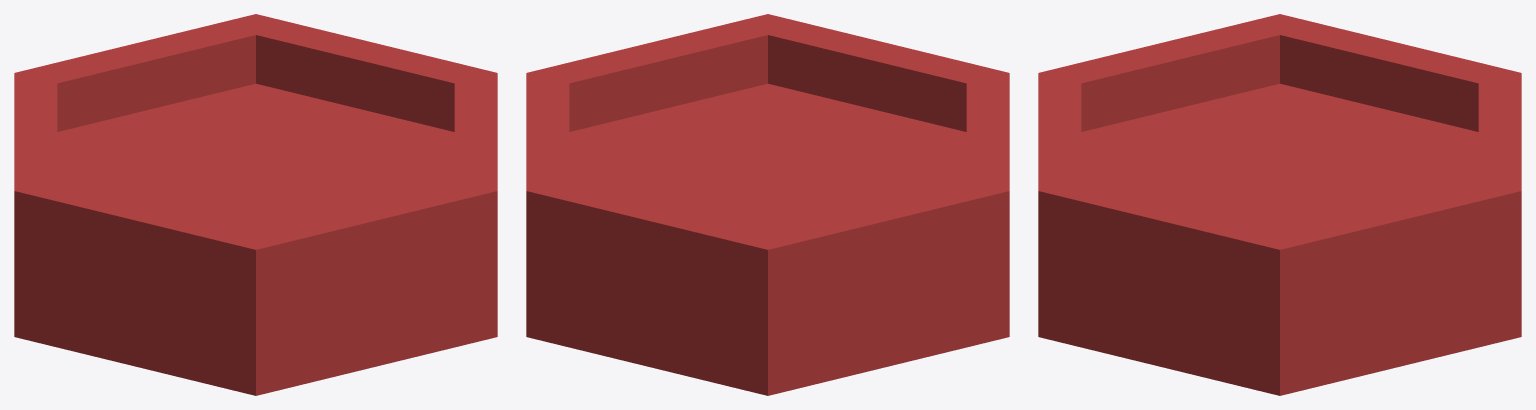
Rendered from _piece_2_bottom.fbx.
3 renders of one model, left to right at view 1: azimuth 30°, elevation 25°; view 2: azimuth 150°, elevation 25°; view 3: azimuth 270°, elevation 25°, orthographic.
Visible parts, largest first — view 1: 개체_1; view 2: 개체_1; view 3: 개체_1.
Boxes of the visible parts, bbox=[...] form: 개체_1: bbox=[14, 14, 497, 395]; 개체_1: bbox=[526, 14, 1009, 395]; 개체_1: bbox=[1038, 14, 1521, 395].
Bounding box in the file's own units: 5.2 × 4.5 × 1.5.
